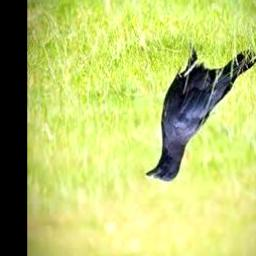Crow: (145, 38, 256, 182)
